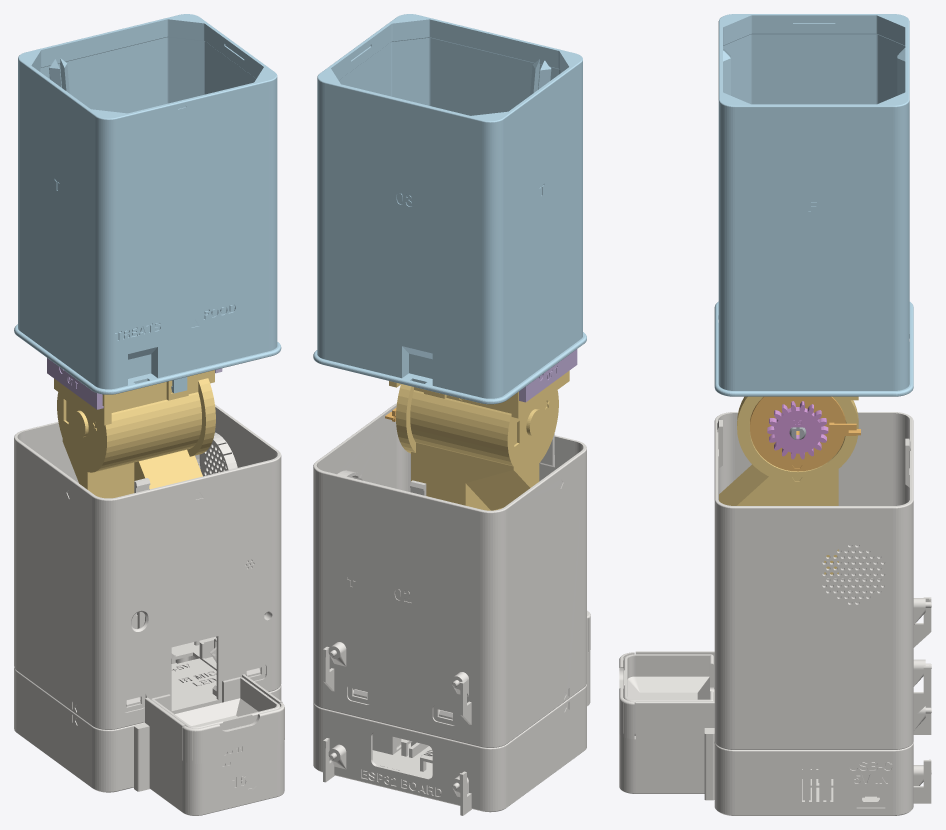
The model's file is a9_into_body.glb.
The picture shows the model from 3 angles, left to right: view 1: azimuth 30°, elevation 25°; view 2: azimuth 150°, elevation 25°; view 3: azimuth 270°, elevation 25°; orthographic projection. The views are drawn at different scales.
Visible parts, largest first — view 1: 03_hopper, 02_body, 05_wheel_housing, 16_bowl_bay, 01_base_bay, 11_treat_tray, 07_flap_holder; view 2: 03_hopper, 02_body, 01_base_bay, 05_wheel_housing, 07_flap_holder; view 3: 03_hopper, 02_body, 01_base_bay, 16_bowl_bay, 05_wheel_housing, 11_treat_tray, 12_end_cap, 15_wheel_gear.
Boxes of the visible parts, x1,y1,x2,y2 form: 03_hopper: (14, 14, 281, 394); 02_body: (14, 404, 281, 729); 05_wheel_housing: (54, 370, 215, 498); 16_bowl_bay: (134, 674, 284, 815); 01_base_bay: (14, 612, 281, 792); 11_treat_tray: (151, 677, 284, 763); 07_flap_holder: (47, 358, 103, 409); 03_hopper: (313, 14, 586, 404); 02_body: (313, 403, 586, 747); 01_base_bay: (313, 684, 586, 815); 05_wheel_housing: (389, 370, 569, 510); 07_flap_holder: (519, 349, 577, 402); 03_hopper: (714, 14, 913, 396); 02_body: (714, 412, 931, 749); 01_base_bay: (714, 701, 931, 815); 16_bowl_bay: (619, 651, 714, 800); 05_wheel_housing: (719, 396, 858, 574); 11_treat_tray: (619, 652, 713, 739); 12_end_cap: (750, 396, 860, 471); 15_wheel_gear: (767, 401, 828, 459).
Size of the model in its own units: 0.112 by 0.3852 by 0.1539.
